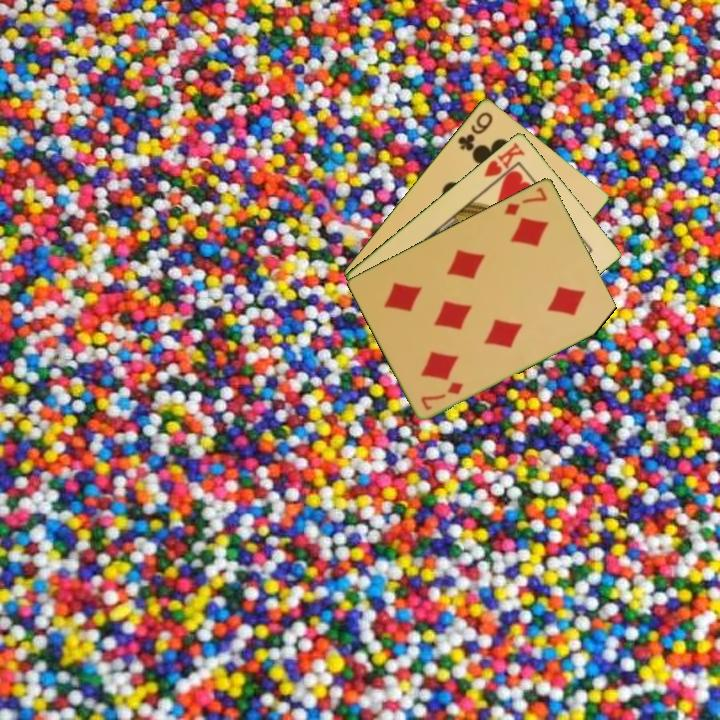7d: (501, 183, 550, 218), (417, 378, 466, 413)
9c: (454, 108, 496, 154)
Kh: (481, 138, 528, 188)
